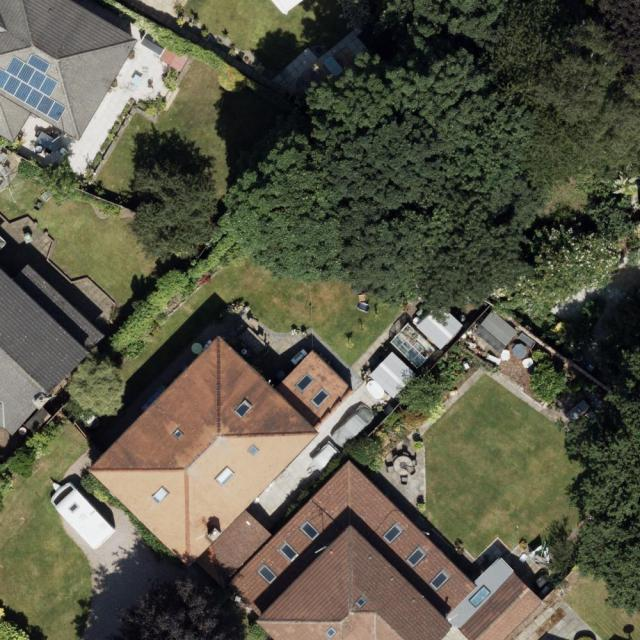roof: (86, 335, 545, 640), (0, 263, 109, 446), (0, 0, 136, 142)
skylight: (213, 465, 237, 488), (382, 522, 405, 546), (430, 567, 452, 592), (298, 518, 321, 541), (256, 563, 279, 586), (406, 545, 428, 568), (277, 542, 299, 564), (233, 397, 254, 419), (150, 484, 170, 504), (297, 372, 316, 393), (312, 387, 330, 406), (246, 442, 261, 458), (172, 426, 185, 441), (323, 625, 338, 638), (354, 596, 368, 609)
solar: (0, 54, 66, 122), (468, 584, 492, 609)
